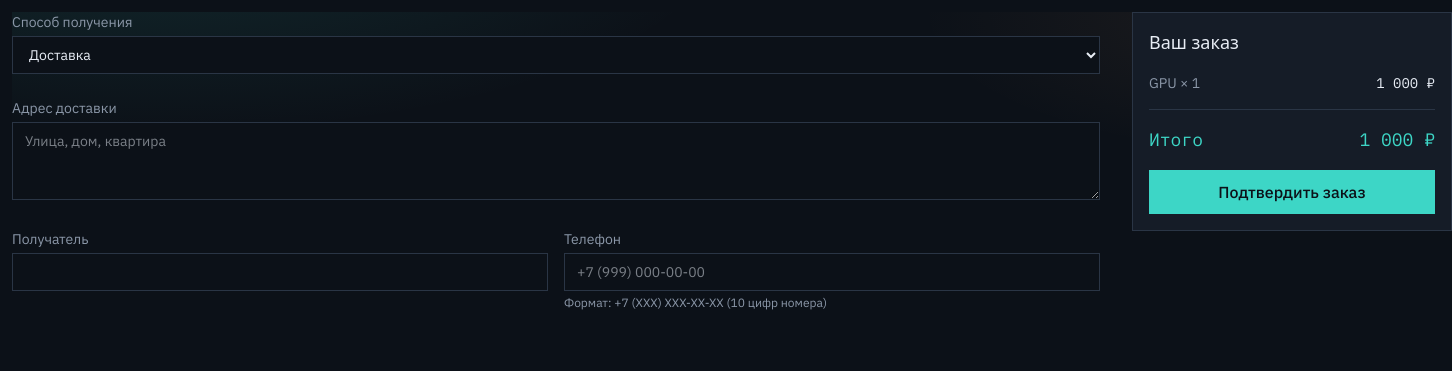
Test case: CheckoutForm › сохраняет введённые данные в полях при повторных попытках отправки
Type "Иван Иванов" into the field with test id "checkout-name" at (280, 272), box x1=12 y1=253 x2=548 y2=291
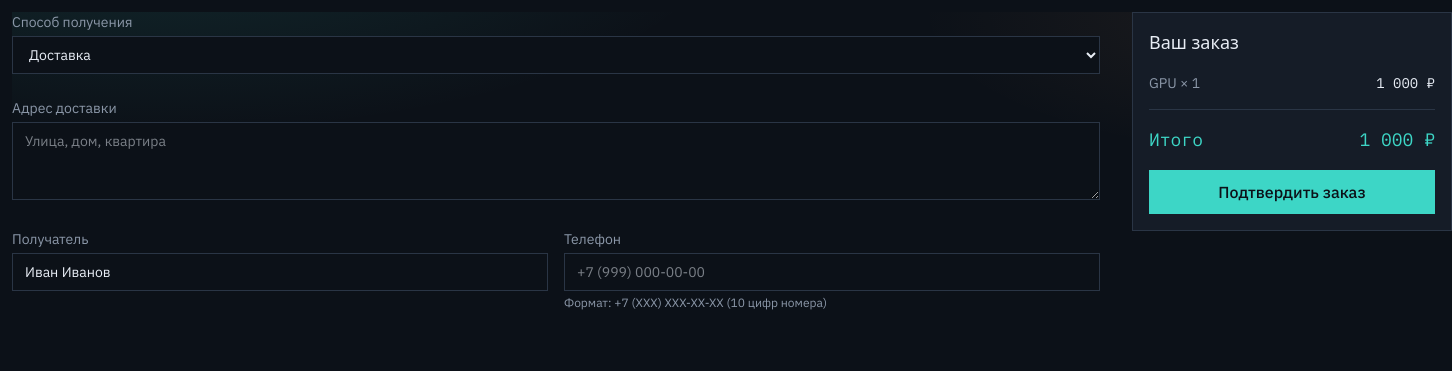
Type "+79991112233" into the field with test id "checkout-phone" at (832, 272), box x1=564 y1=253 x2=1100 y2=291
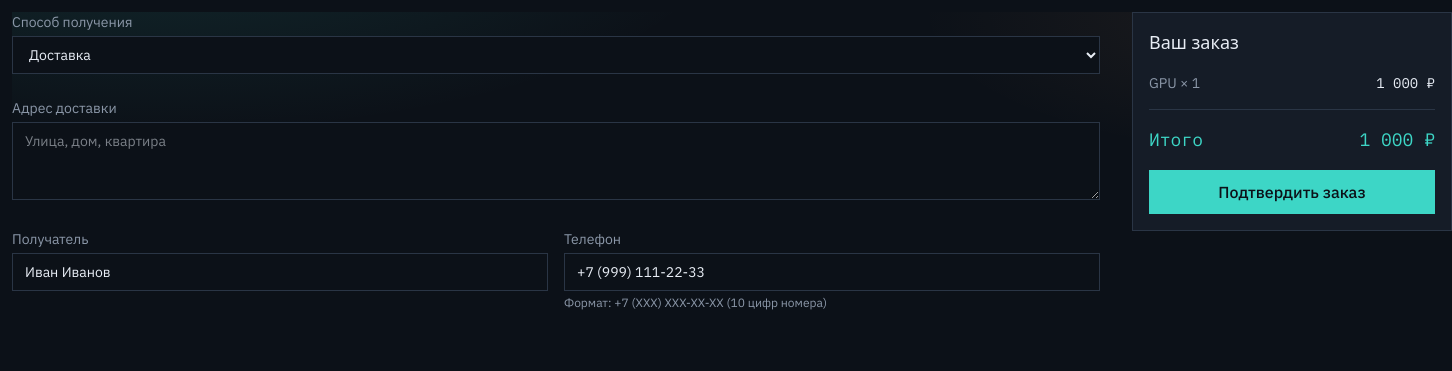
Type "г. Москва, ул. Ленина, д. 10" into the text box with test id "checkout-address" at (556, 161), box x1=12 y1=122 x2=1100 y2=200
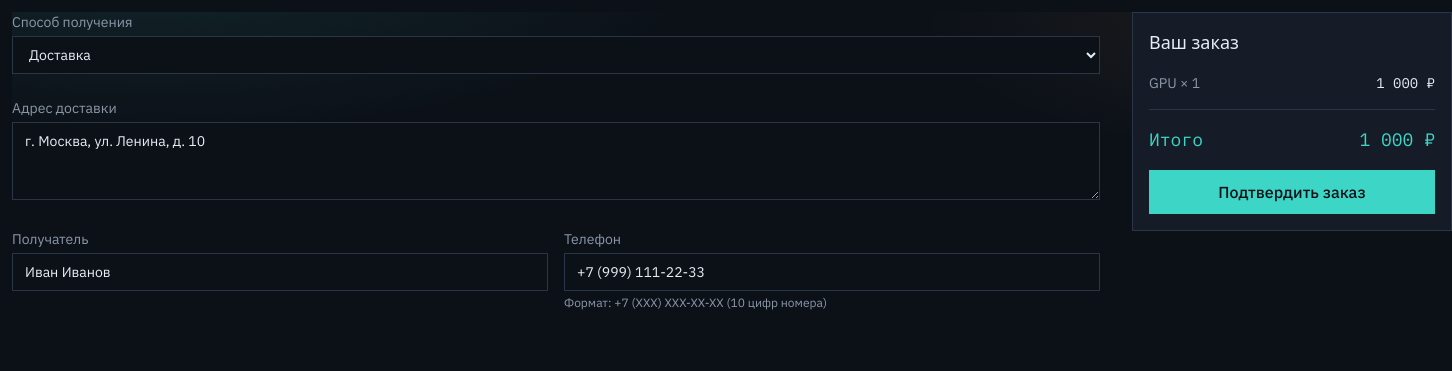
Click the button with test id "checkout-submit" at (1292, 192), box x1=1149 y1=170 x2=1435 y2=214
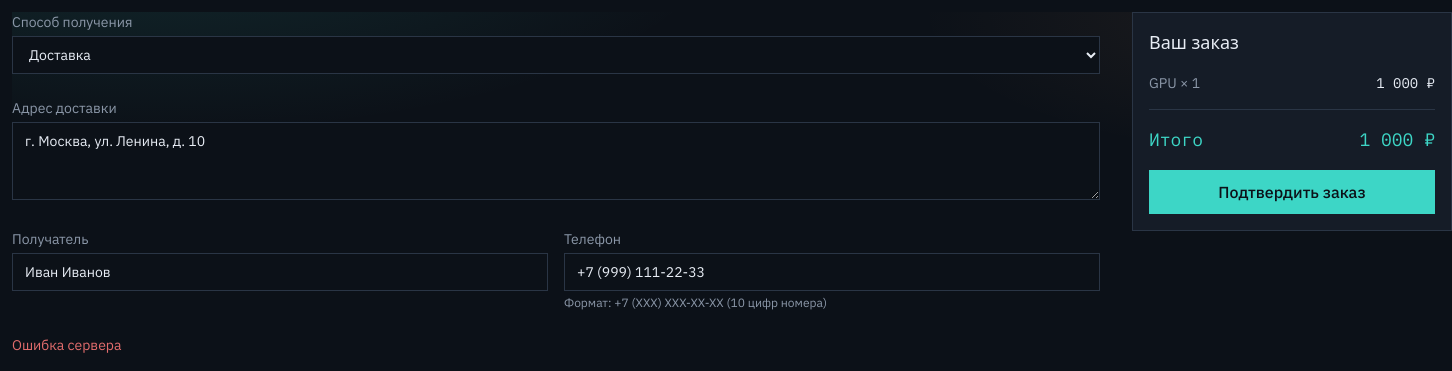
Expected: the field with test id "checkout-phone" holds "+7 (999) 111-22-33", x1=564 y1=253 x2=1100 y2=291
Expected: the message with test id "order-error" reads "Ошибка сервера", x1=12 y1=336 x2=121 y2=354
